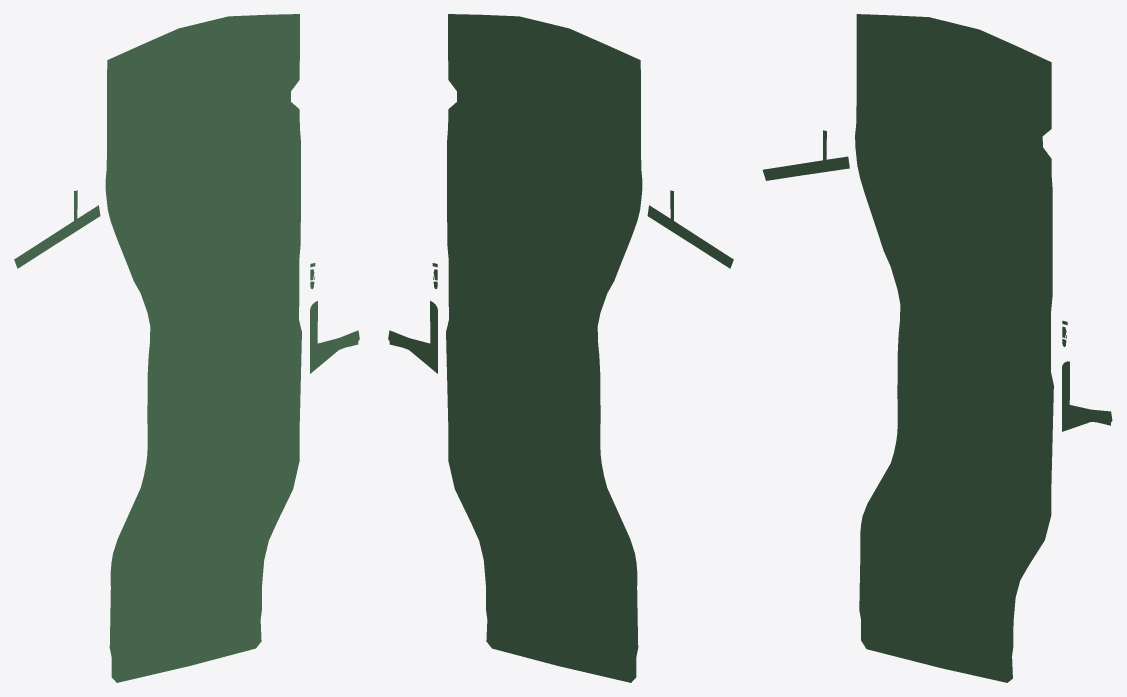
The model's file is green_areas.obj.
3 renders of one model, left to right at view 1: azimuth 30°, elevation 25°; view 2: azimuth 150°, elevation 25°; view 3: azimuth 330°, elevation 25°, orthographic.
Visible parts, largest first — view 1: chongqing_central_park_green_areas; view 2: chongqing_central_park_green_areas; view 3: chongqing_central_park_green_areas.
Boxes of the visible parts, bbox=[...] form: chongqing_central_park_green_areas: bbox=[14, 14, 359, 682]; chongqing_central_park_green_areas: bbox=[388, 14, 733, 682]; chongqing_central_park_green_areas: bbox=[762, 14, 1112, 682].
Size of the model in its own units: 1361 by 2409 by 0.
